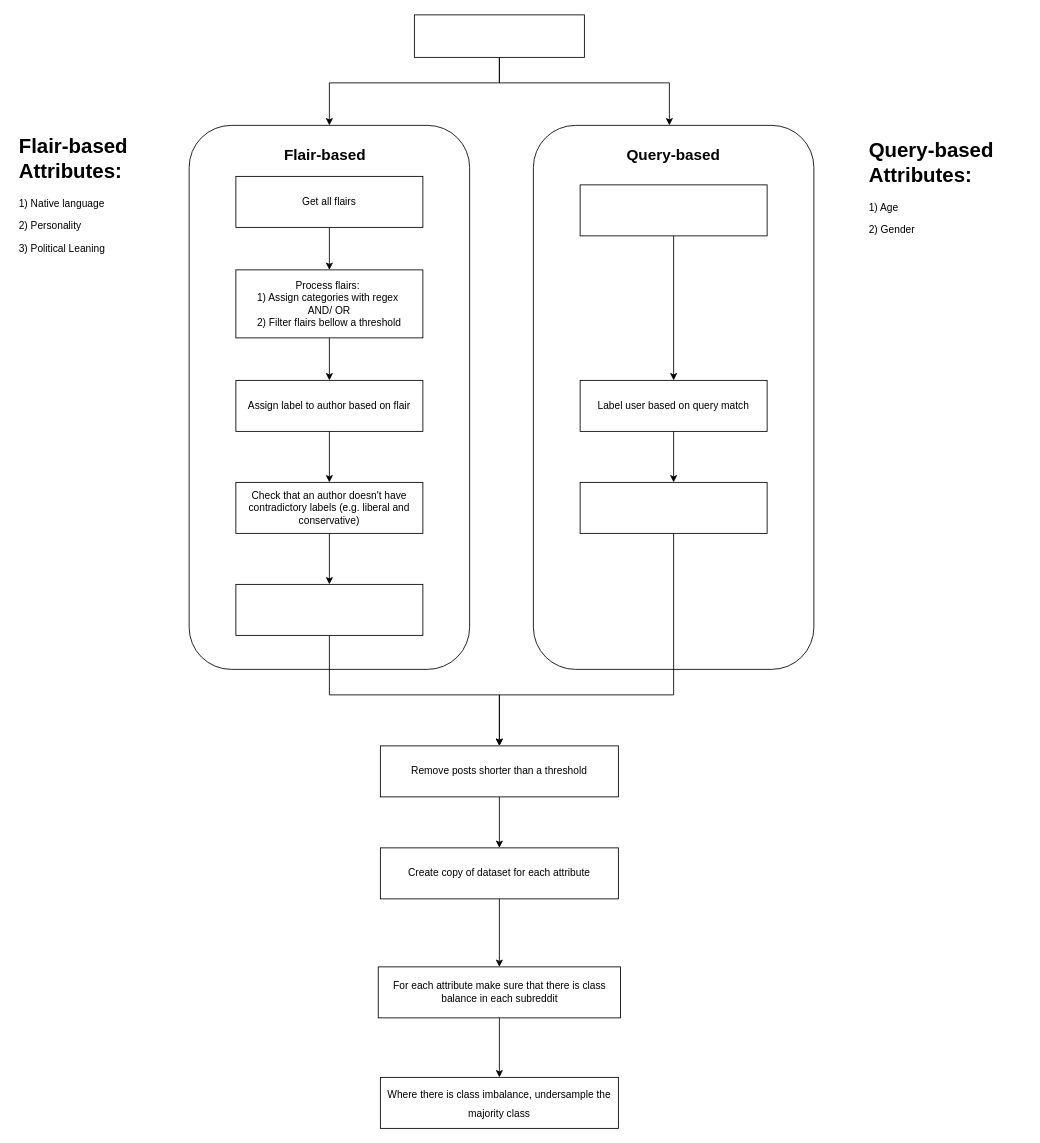
This 1040x1143 diagram has some shape labels left out. The centre of each missing label's shape, as x and y in pixels:
Check that an author doesn't have contradictory labels (e.g. male and female): pixel 673 507
Get all author posts not from the original subreddit: pixel 329 609
Get relevant subreddits: pixel 499 35
Query subreddit with self reporting patterns: pixel 673 210
